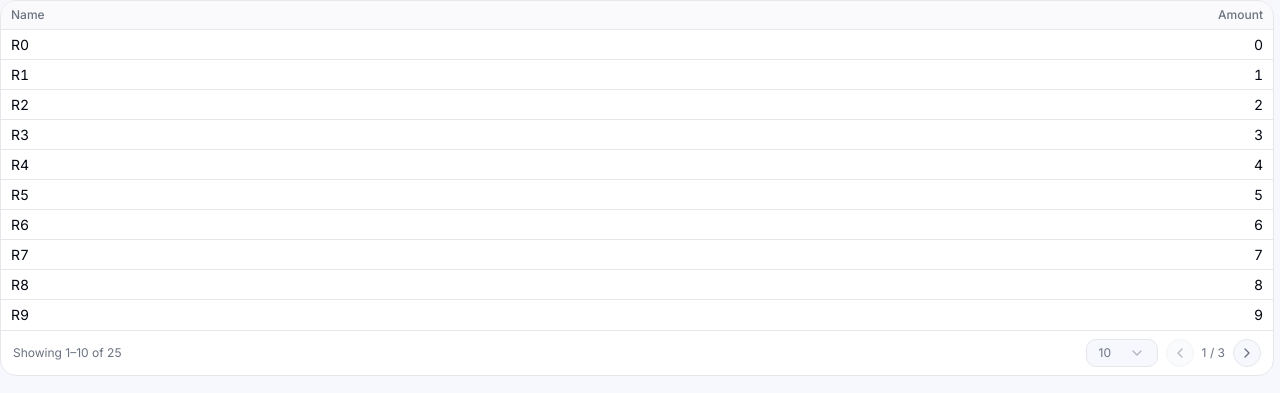
Test case: DataTable (pattern 4) › shows the "Showing X–Y of Z" footer and paginates
Check: the text "Showing 1–10 of 25" is shown, box [13,344,122,360]
Step 1. Click the button named "next page" → (1247, 352), box [1233,338,1261,366]
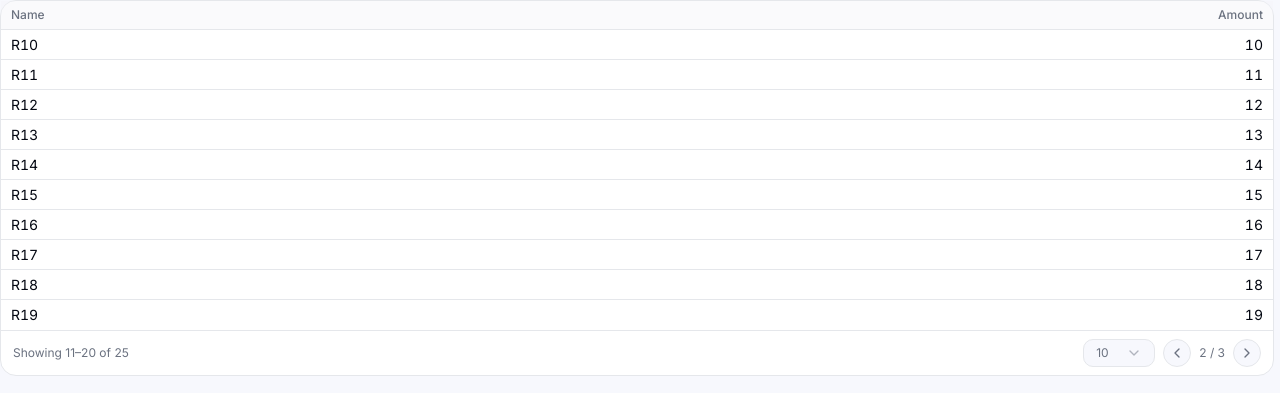
Check: the text "Showing 11–20 of 25" is shown, box [13,344,129,360]
